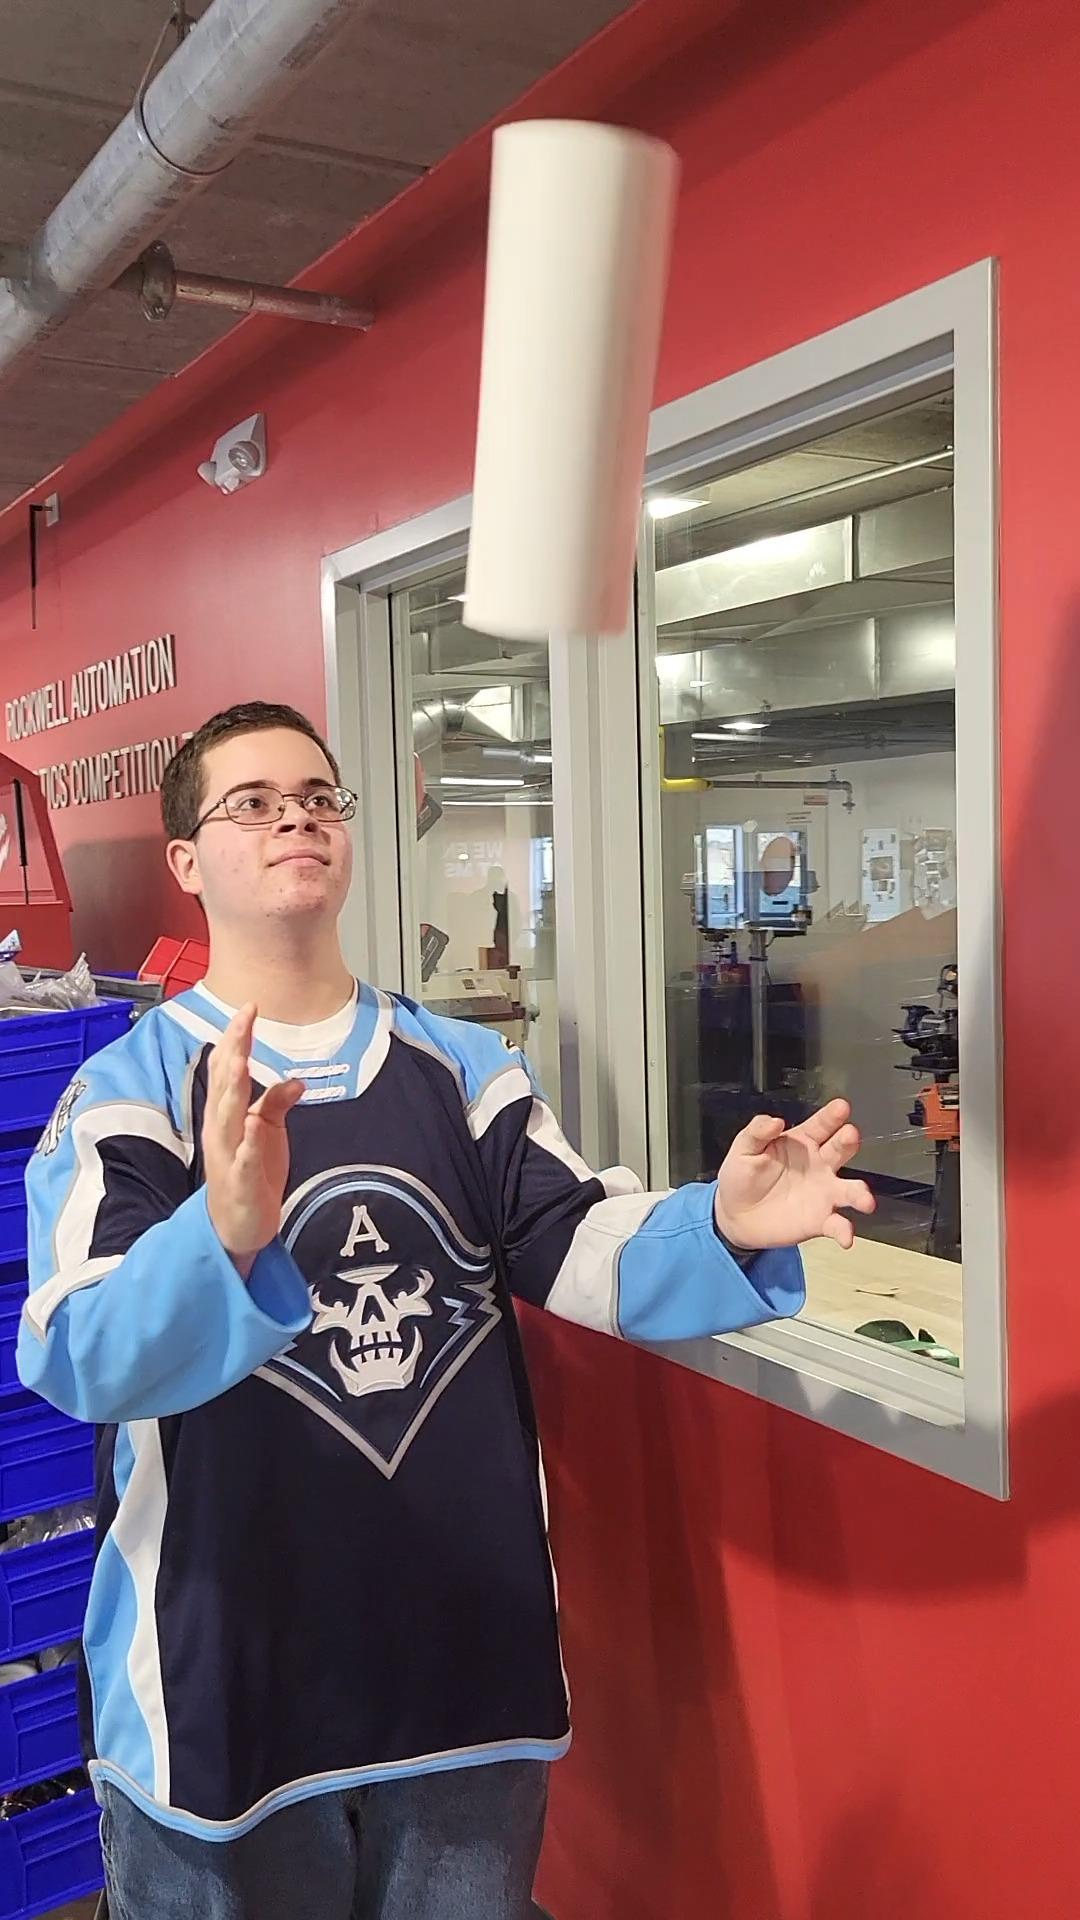coral: (447, 100, 683, 653)
